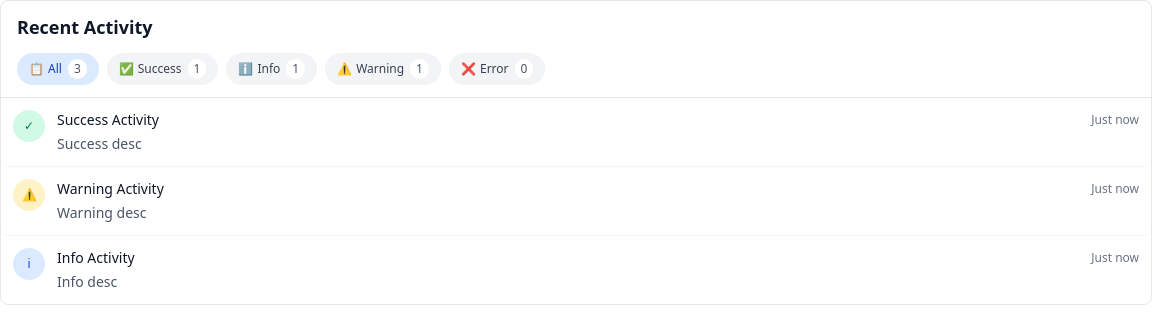
Test: ActivityList › filters activities when filter button is clicked
expect the text "Success Activity" is shown: met, box x1=57 y1=110 x2=159 y2=130
expect the text "Warning Activity" is shown: met, box x1=57 y1=179 x2=164 y2=199
Note: Click on Success filter
What coordinates should you click on to do the following:
click the button "✅ Success 1"
I would click on:
 (163, 69)
Its box is x1=107 y1=53 x2=218 y2=85.
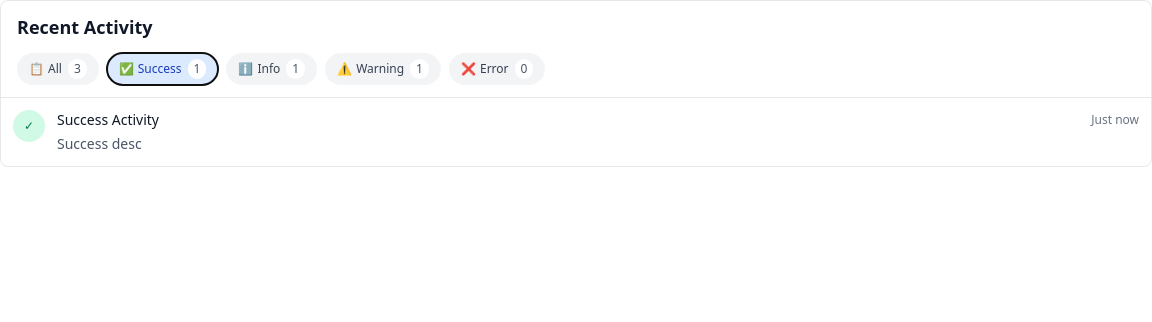
expect the text "Success Activity" is shown: met, box x1=57 y1=110 x2=159 y2=130
expect the text "Warning Activity" is gone: met
expect the text "Info Activity" is gone: met
